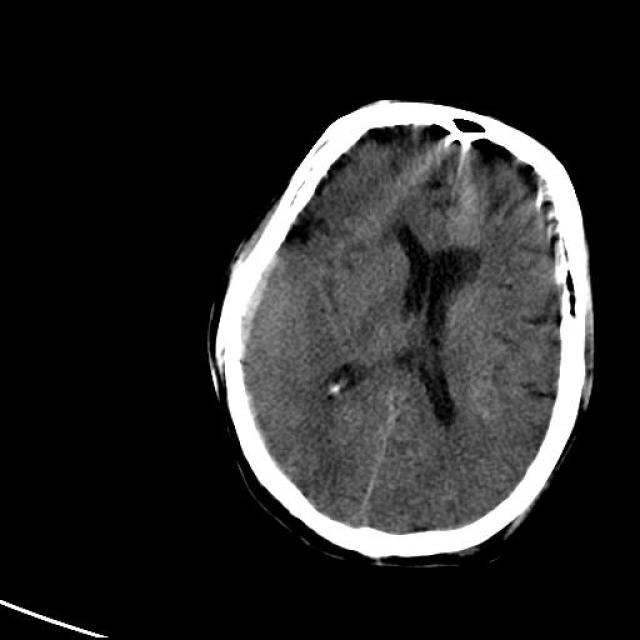Subdural: (192, 246, 310, 376)
